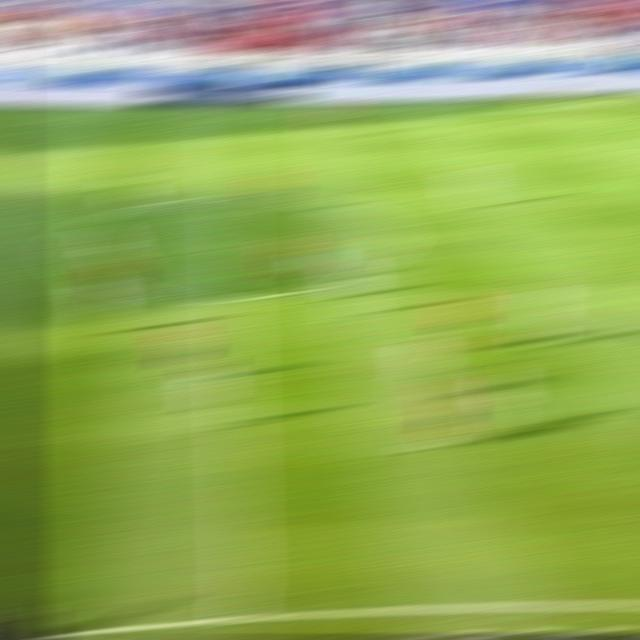halfcircle_bottom: (210, 285, 255, 311)
halfcircle_top: (206, 184, 252, 205)
midline_bottom_intersection: (215, 597, 269, 632)
midline_top_intersection: (207, 108, 245, 125)
